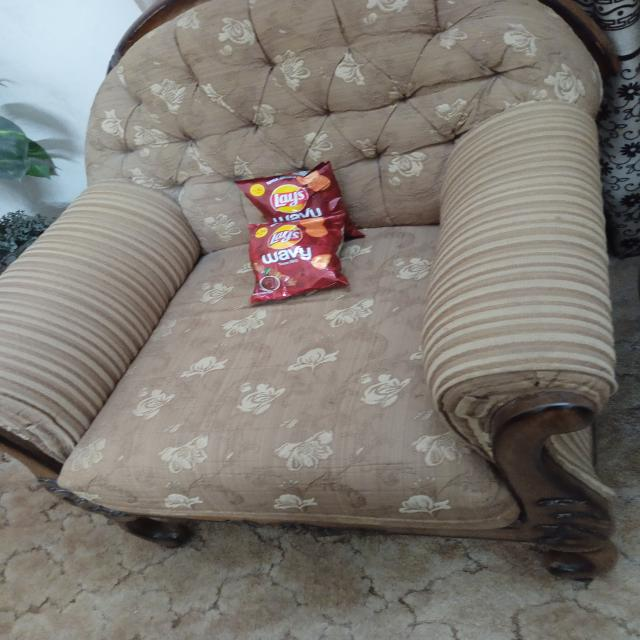Plastic: (246, 223, 343, 297), (240, 163, 343, 220)
